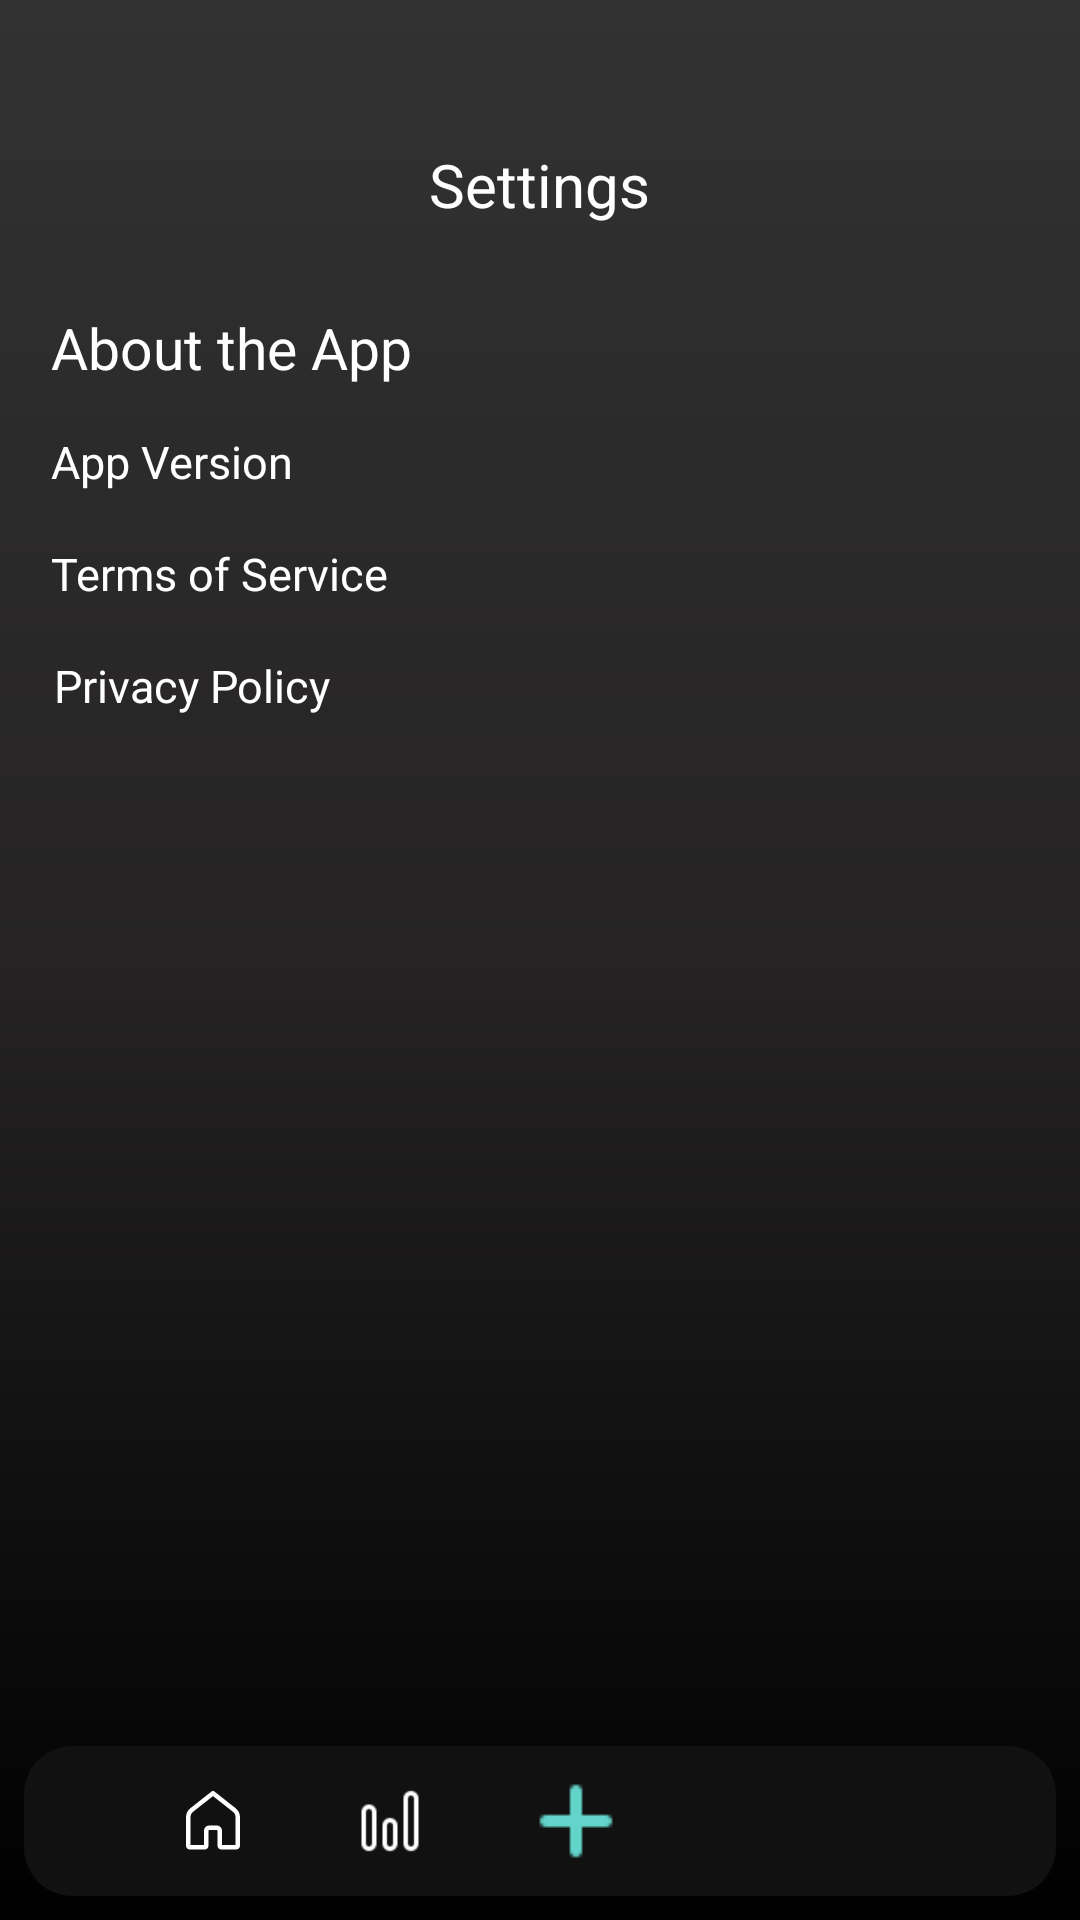

Screen size 1080*1920. Icon name, then its center in pixels as (x=x, y=y):
dashboard: (x=390, y=1821)
home: (x=213, y=1820)
plus: (x=576, y=1821)
